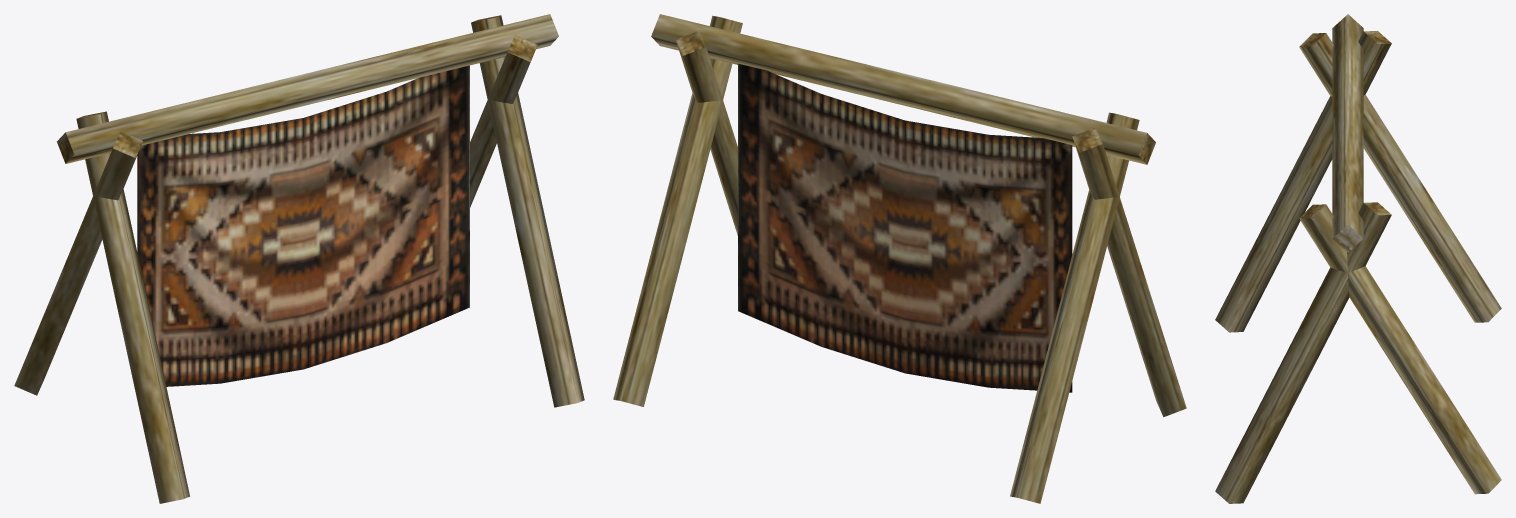
Rendered from eyecandy_iber_rugstand.glb.
3 views of the same model, side by side, from view 1: azimuth 30°, elevation 25°; view 2: azimuth 150°, elevation 25°; view 3: azimuth 270°, elevation 25° (orthographic). The views are drawn at different scales.
Visible parts, largest first — view 1: Plane03; view 2: Plane03; view 3: Plane03.
Boxes of the visible parts, <box> form: Plane03: <box>14,14,584,503</box>; Plane03: <box>613,14,1186,503</box>; Plane03: <box>1215,14,1501,503</box>.
Size of the model in its own units: 4.44 by 2.95 by 2.55.
Materials: 1 (1 with a texture image).
